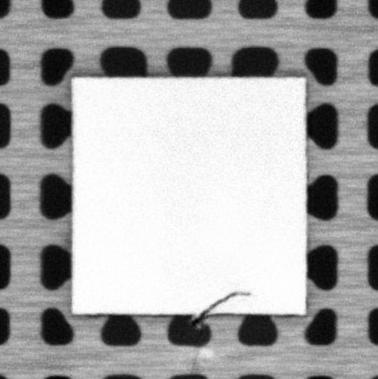DIE_INK: (192, 288, 252, 330)
